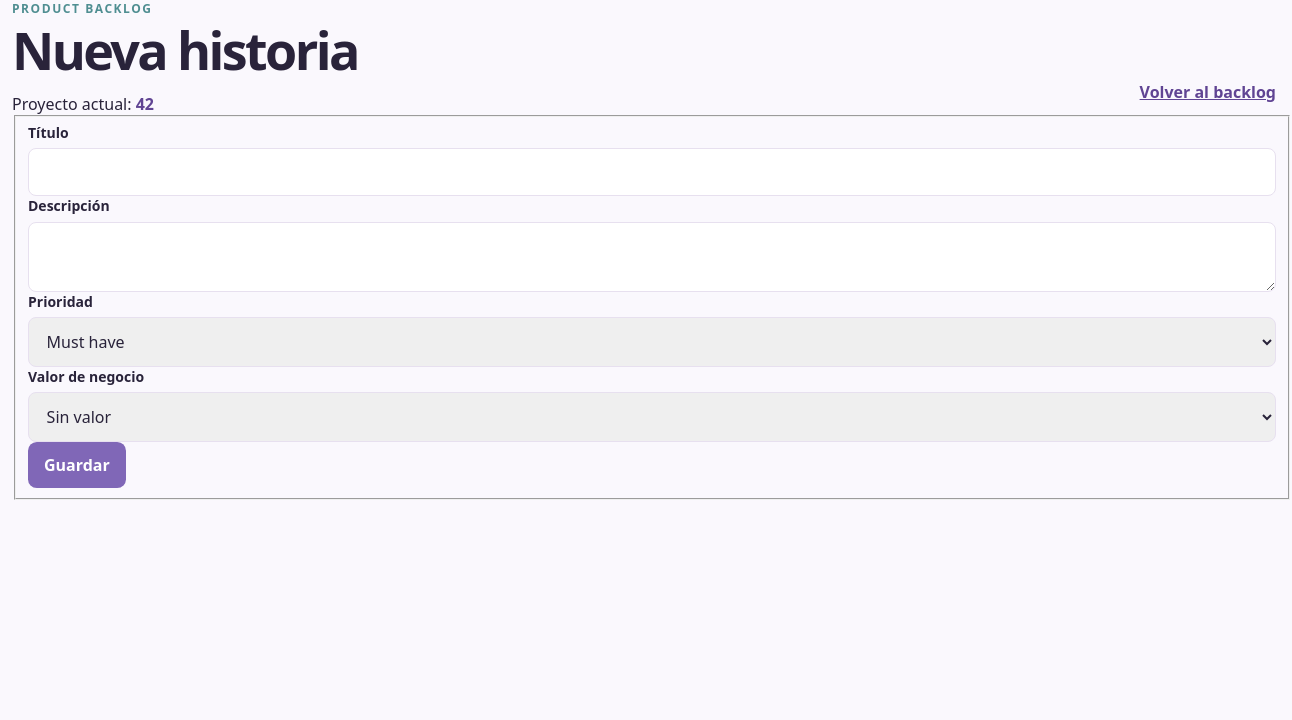
creación de historias de US1 › US1.1: crea la historia y muestra la confirmación con estado y sin estimación
Step 1. Type "  Como usuario quiero iniciar sesión  " into the field labelled "Título" → (652,172), box [28,148,1276,196]
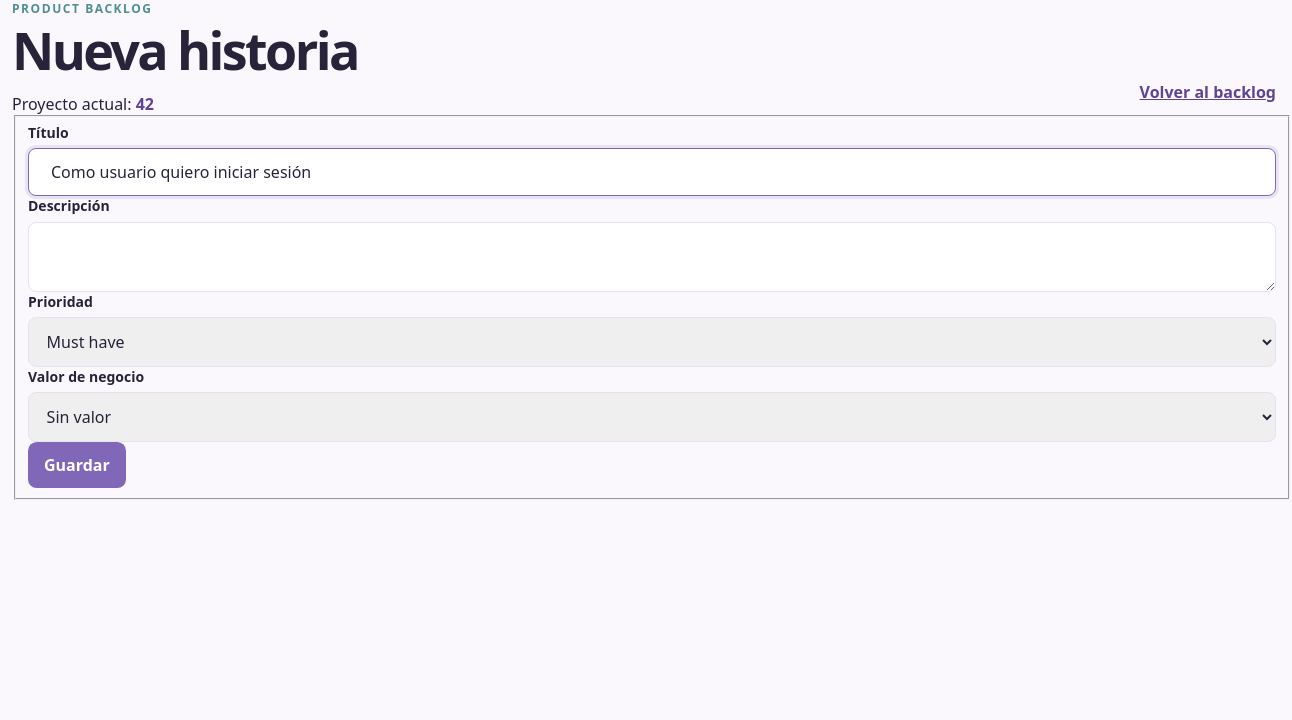
Step 2. Type "  Autenticación con email y contraseña  " into the text box labelled "Descripción" → (652,257), box [28,222,1276,292]
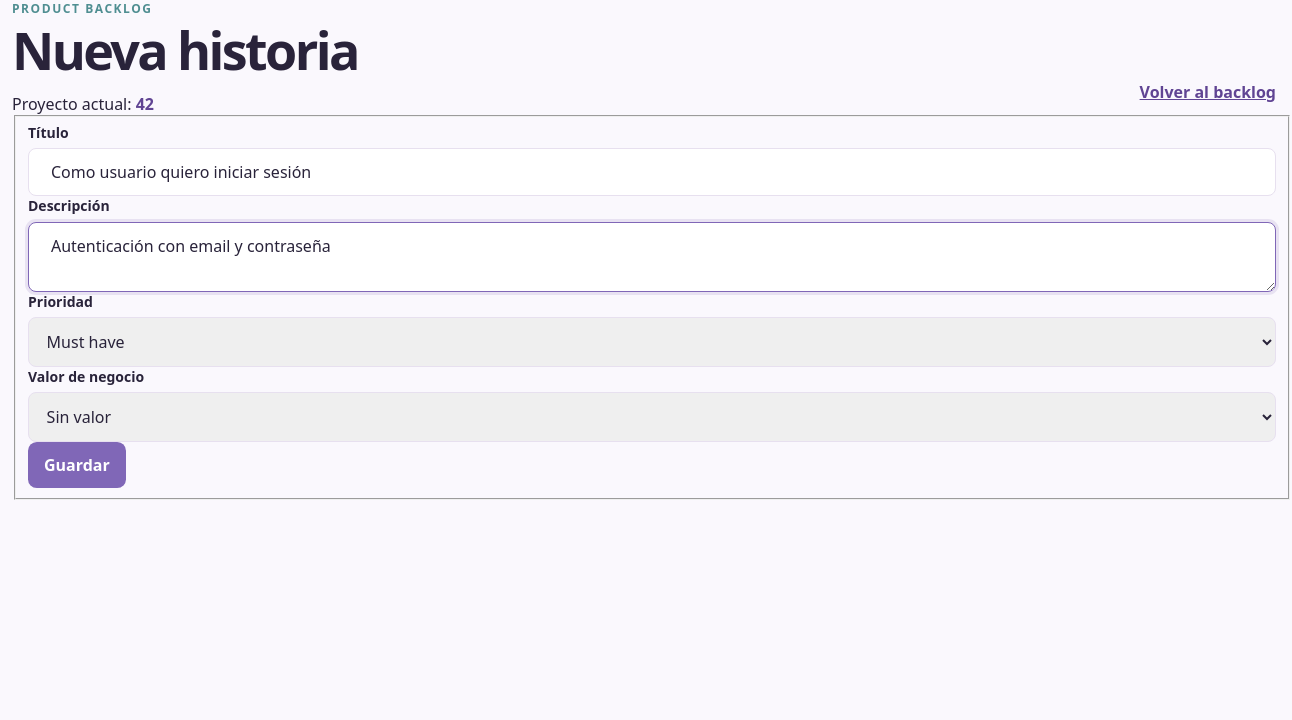
Step 3. Select "Must have" in the dropdown labelled "Prioridad" → (652,342), box [28,317,1276,367]
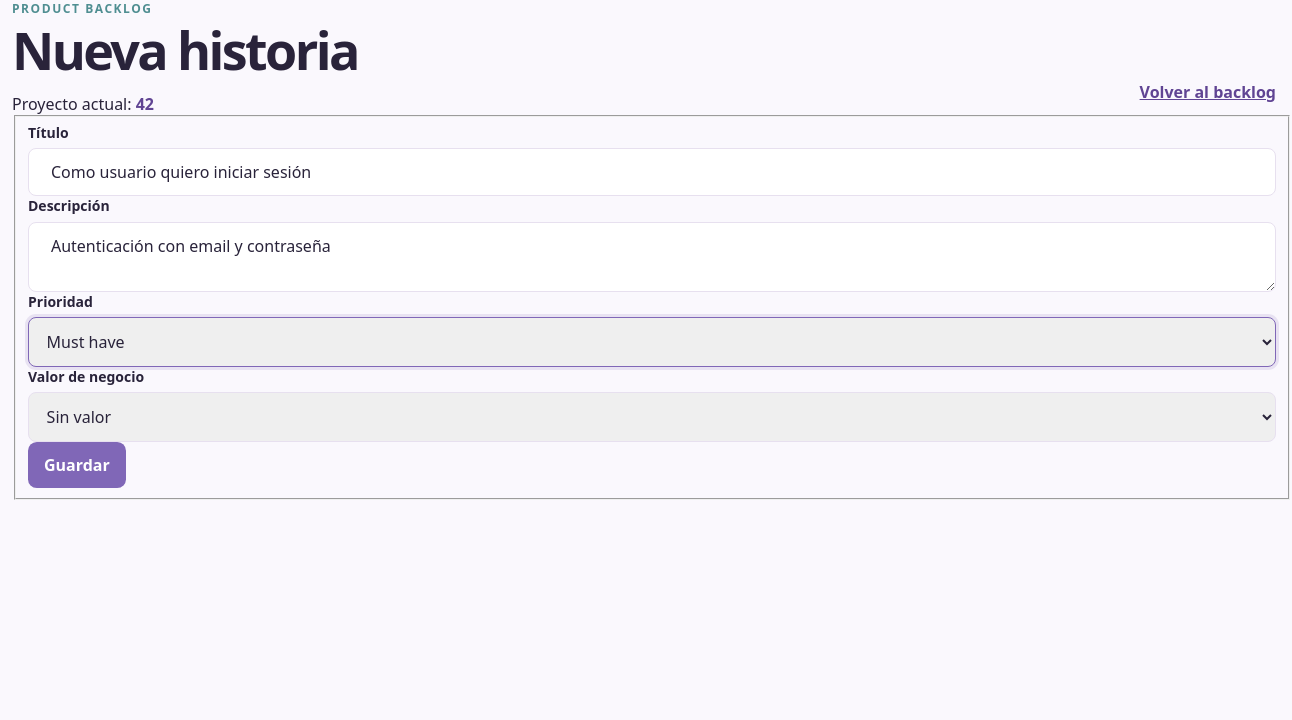
Step 4. Click the button "Guardar" → (77,465), box [28,442,126,488]
(page scrolled)
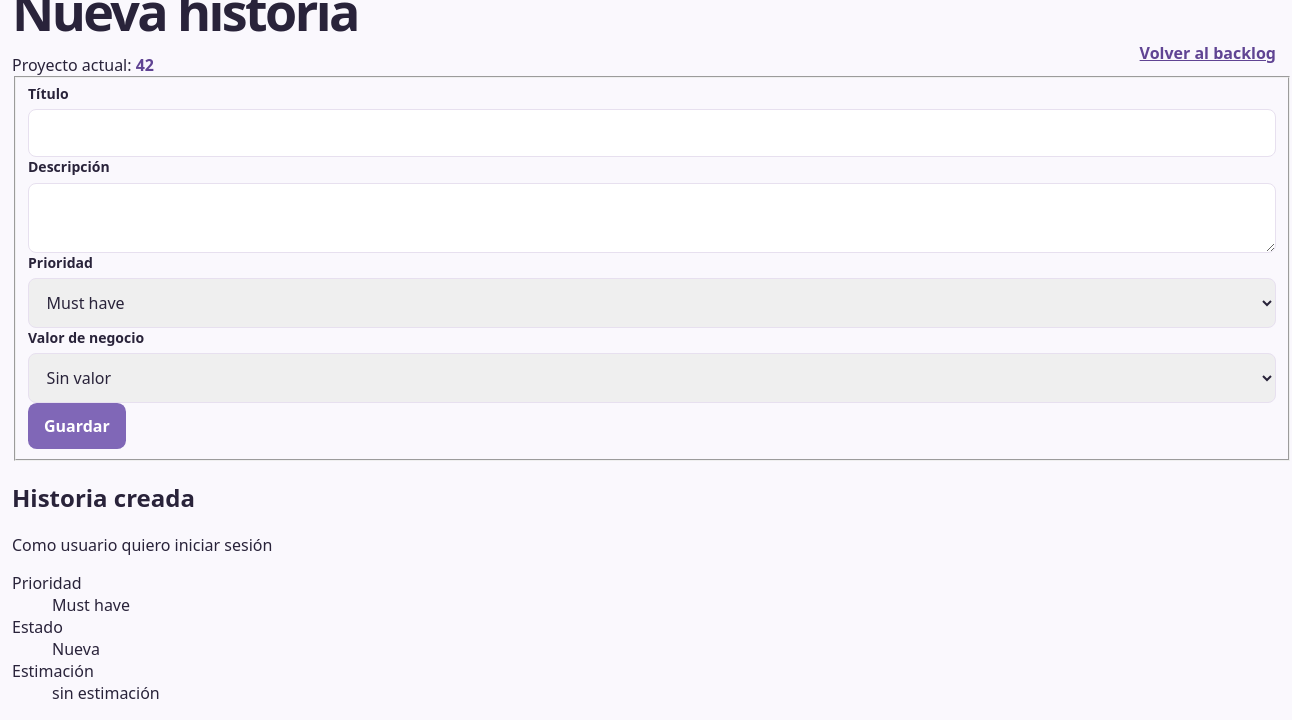
Now the text "Como usuario quiero iniciar sesión" is shown, box [12,534,272,556]
Now the text "Must have" is shown, box [52,594,130,616]
Now the text "Nueva" is shown, box [52,638,100,660]
